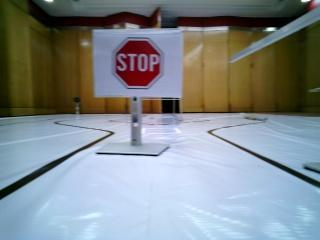stop: (94, 33, 179, 96)
